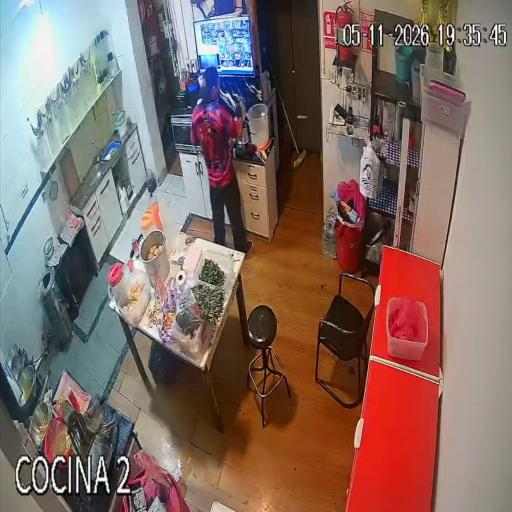Envase Ketchup: (66, 387, 79, 410)
Envase Llajua: (58, 395, 65, 404)
Jarra1: (108, 263, 124, 296)
Jarra2: (141, 210, 157, 236)
Jarra3: (158, 198, 178, 246)
Microondas: (171, 115, 201, 154)
Persona1: (191, 68, 247, 252)
Tapa de olla: (44, 237, 53, 255)
Taper: (37, 280, 46, 300)
Taper2: (194, 247, 234, 295)
Taper3: (173, 280, 218, 358)
Taper4: (116, 270, 150, 325)
olla1: (141, 229, 169, 289)
